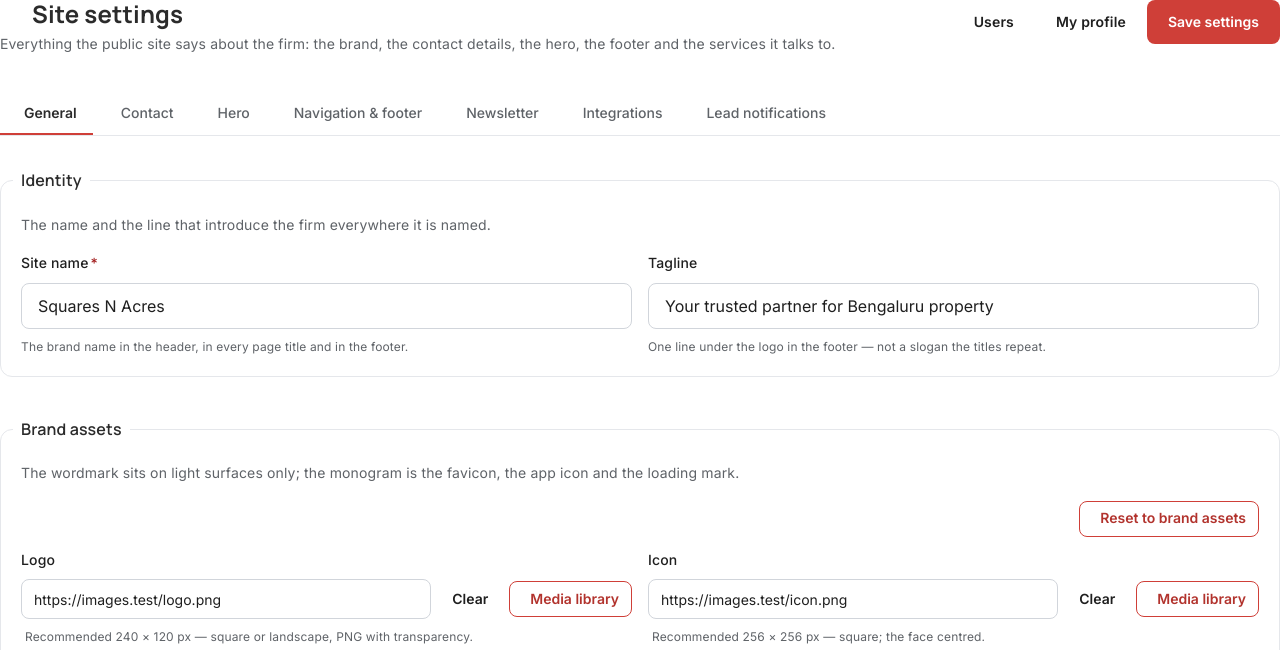
Test case: QA-64 › does not put back what a colleague saved after the form was opened
Replace the text in the field labelled "Tagline" with "A tagline of my own" at {"x": 954, "y": 306}, box [648,283,1259,329]
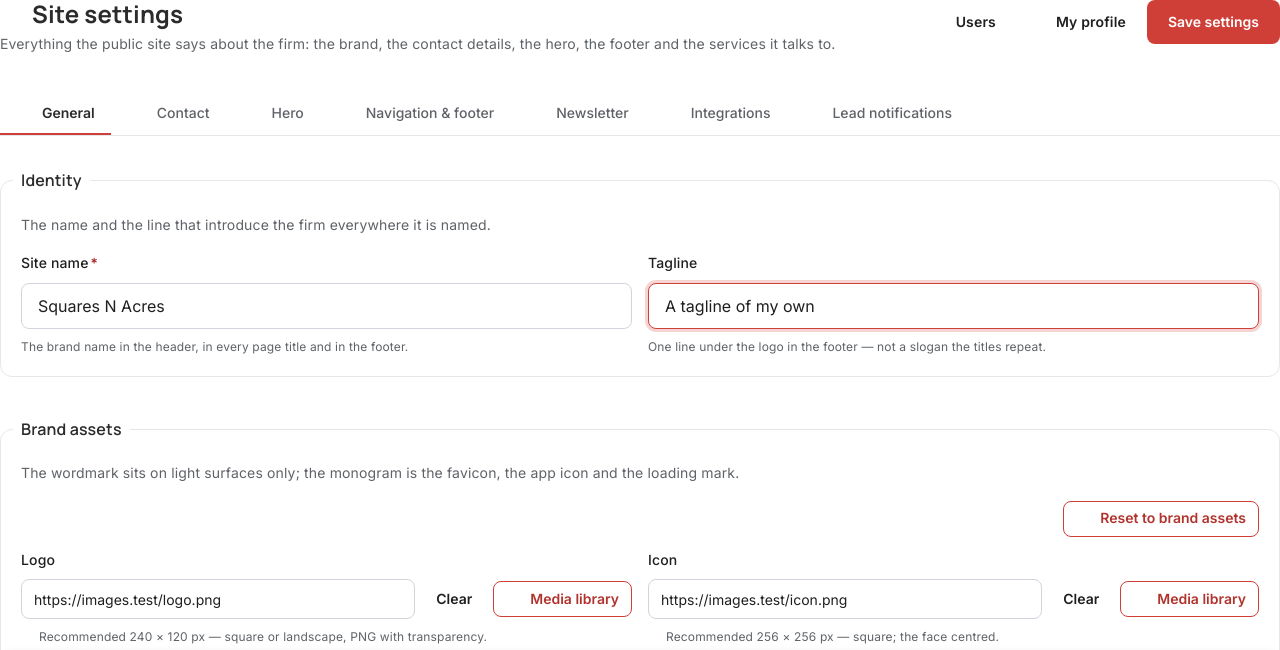
Click the button "Save settings" next to "My profile" at {"x": 1213, "y": 22}, box [1147,0,1279,44]
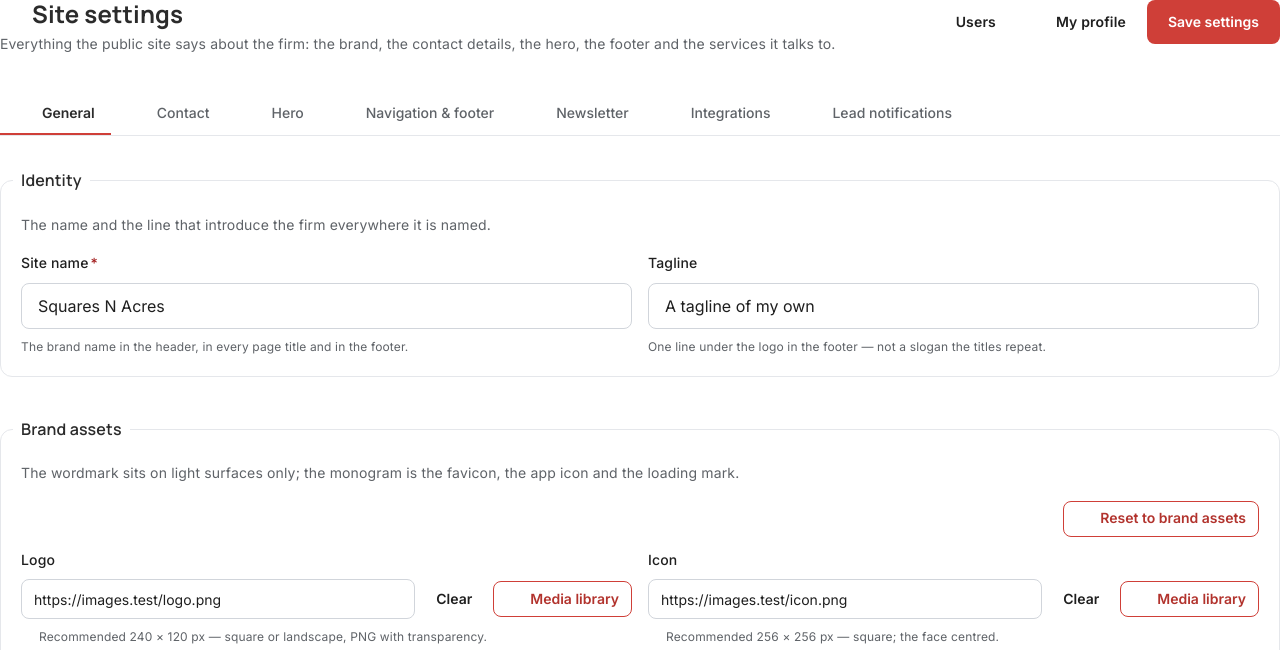
Click the tab "Hero" at {"x": 275, "y": 113}, box [230,91,320,135]
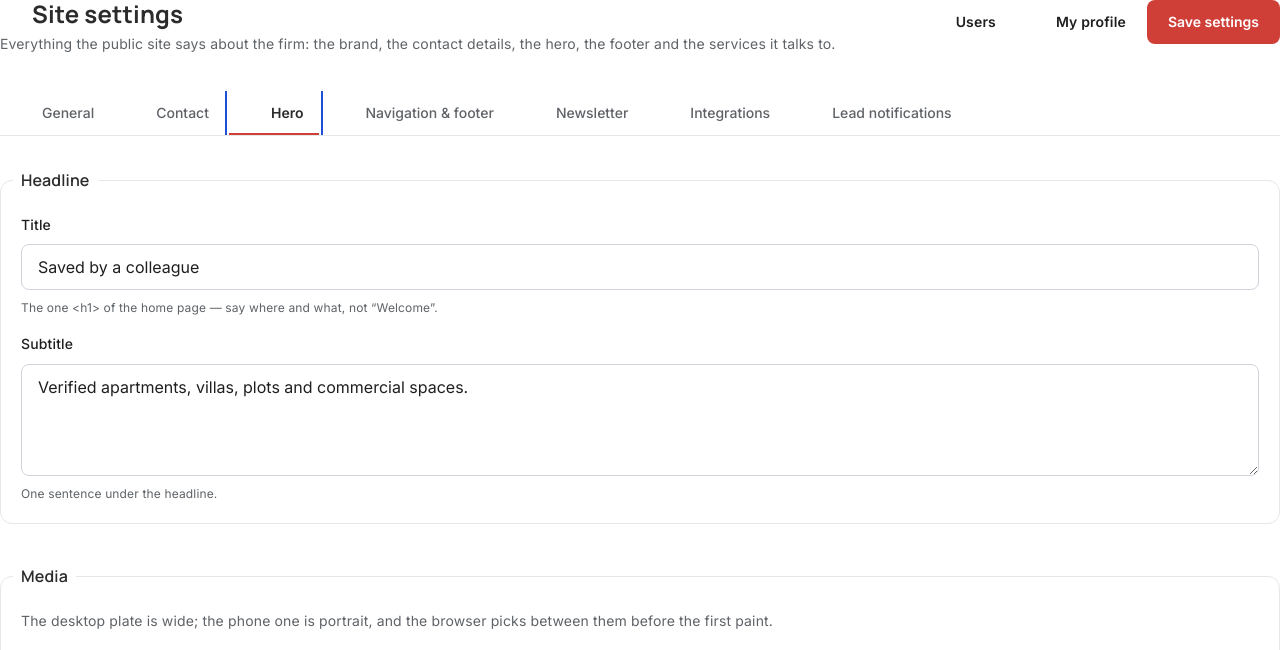
expect the text "You have unsaved changes" is not shown: met
expect the field labelled "Title" holds "Saved by a colleague": met, box [21,244,1259,290]
